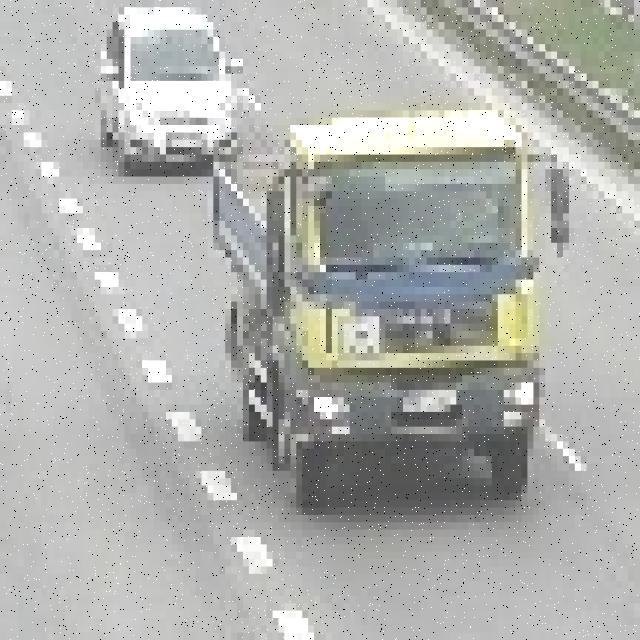truck: (213, 103, 581, 500)
